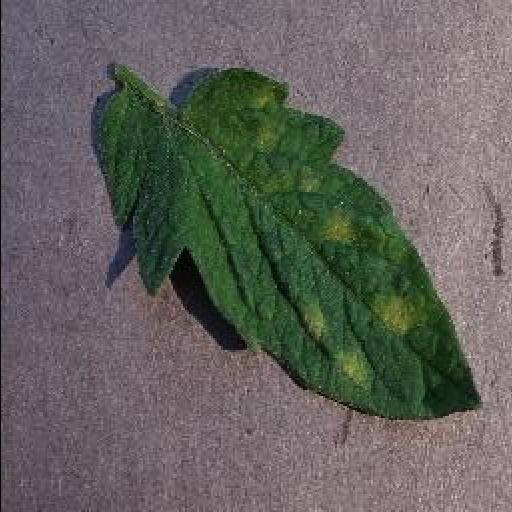disease_tomato: (90, 70, 482, 423)
